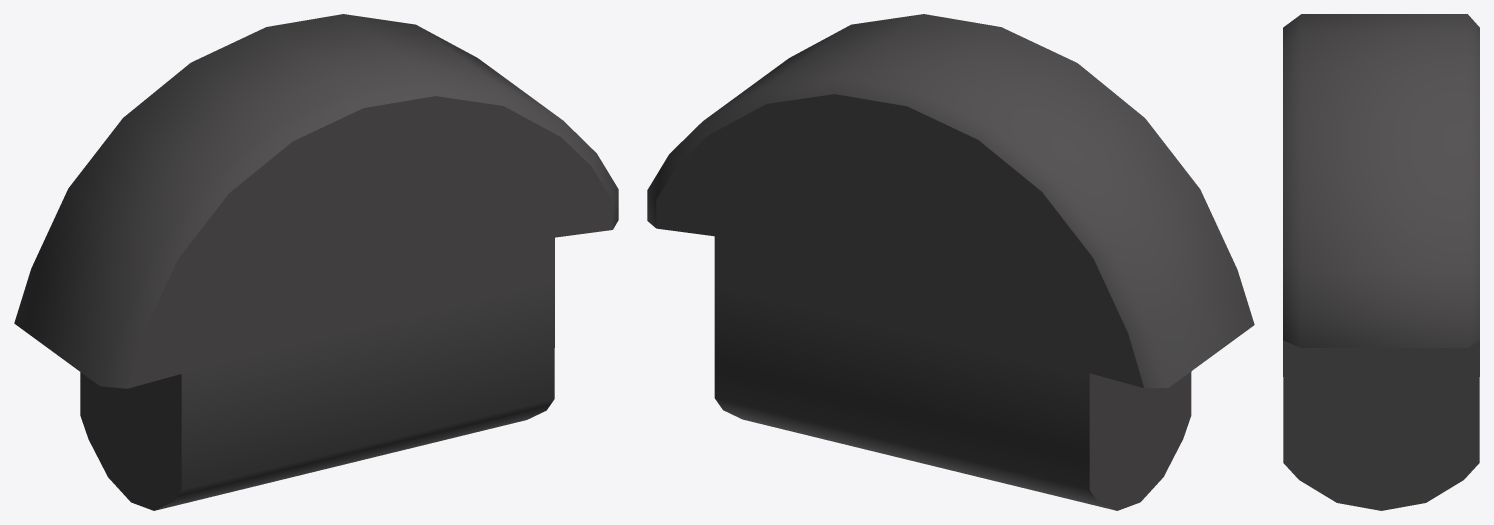
3 renders of one model, left to right at view 1: azimuth 30°, elevation 25°; view 2: azimuth 150°, elevation 25°; view 3: azimuth 270°, elevation 25°, orthographic. The views are drawn at different scales.
Visible parts, largest first — view 1: RAnklePitch; view 2: RAnklePitch; view 3: RAnklePitch.
Boxes of the visible parts, x1=… form: RAnklePitch: x1=14, y1=14, x2=618, y2=510; RAnklePitch: x1=647, y1=14, x2=1254, y2=510; RAnklePitch: x1=1283, y1=14, x2=1479, y2=510.
Bounding box in the file's own units: 0.8413 × 0.6182 × 0.2852.
Materials: 1 (1 with a texture image).
